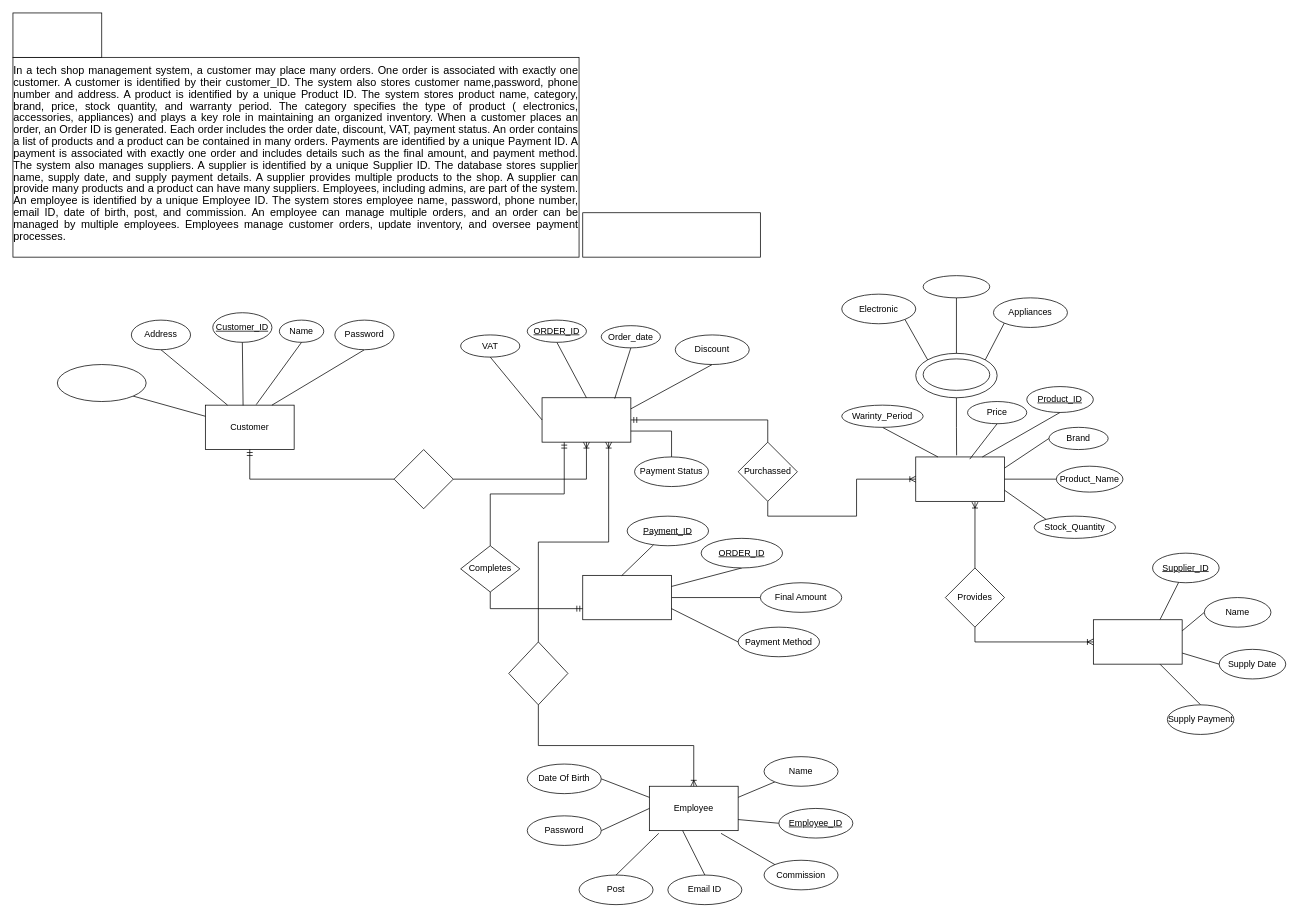
This 1299x918 diagram has some shape labels left out. Here are the shapes that lost their labels. From the top down, the centre of each, then its label:
(57,34): QUESTION
(671,234): ER DIAGRAM MANAGEMENT SYSTEM
(956,286): Accessories
(101,383): Phone_Number
(956,374): Category
(586,419): Order
(423,479): Places
(960,478): Product
(627,597): Payment
(1137,641): Supplier
(538,673): Manage
